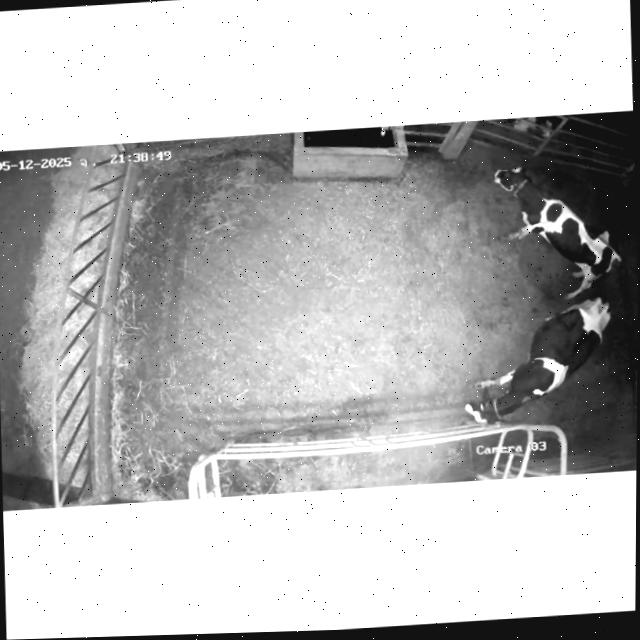stand: (465, 297, 611, 424), (493, 166, 621, 298)
